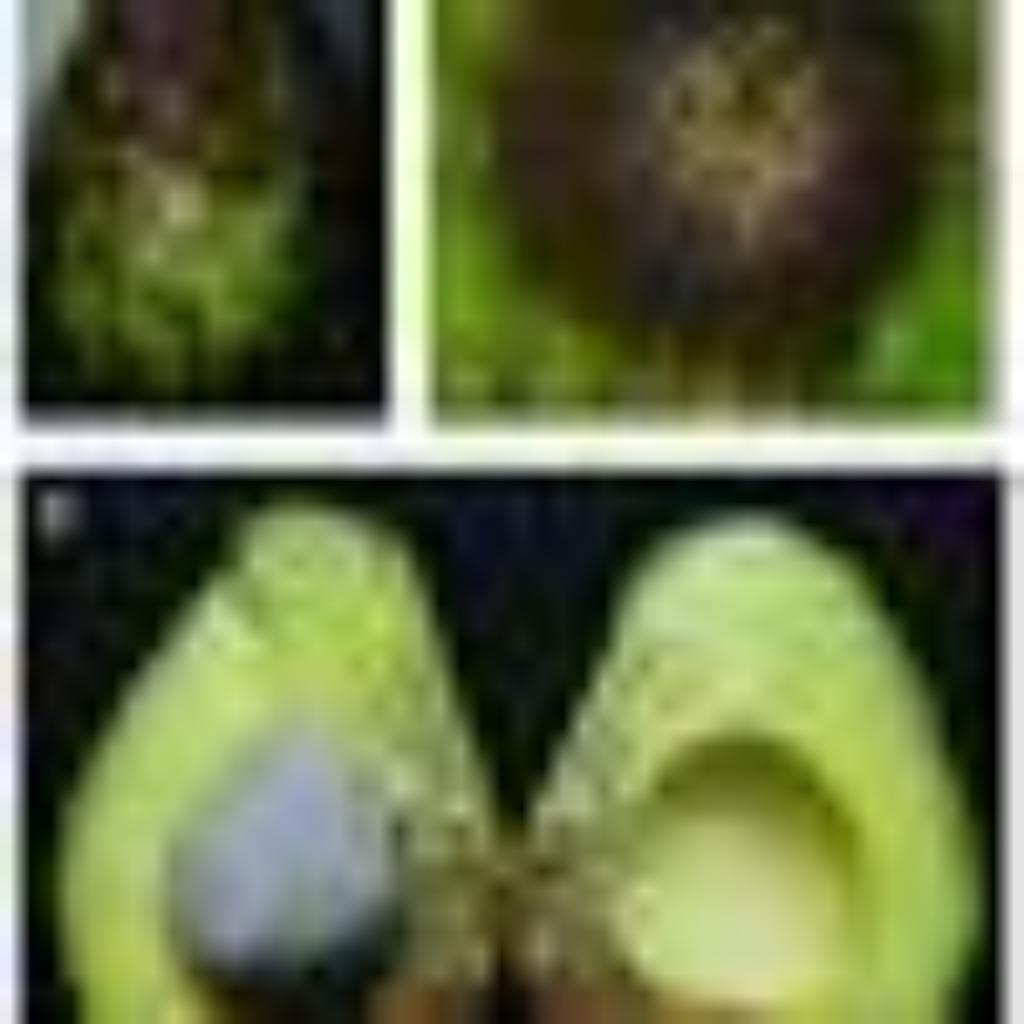antracnosis_fruto: (410, 0, 983, 410), (11, 11, 380, 380)
